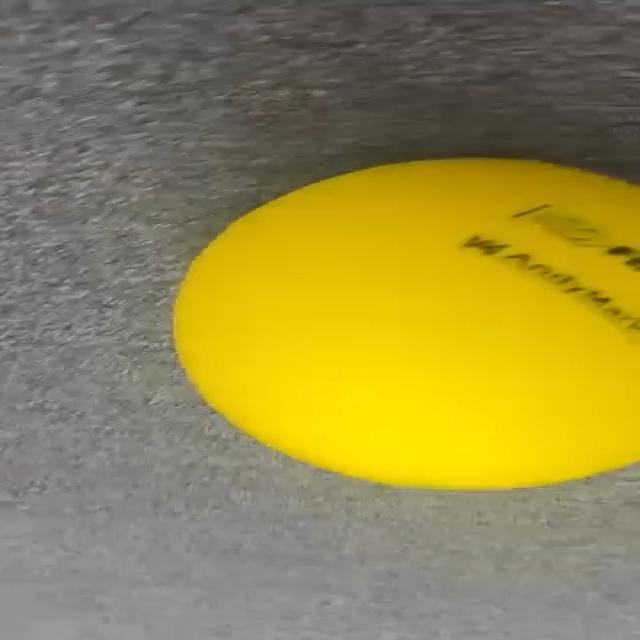Fuels: (178, 157, 640, 490)
